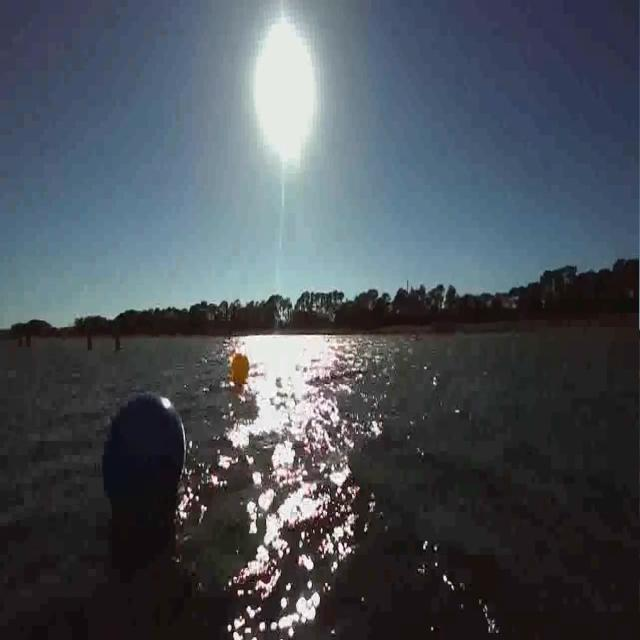blue-buoy: (100, 388, 189, 524)
yellow-buoy: (231, 350, 251, 386)
